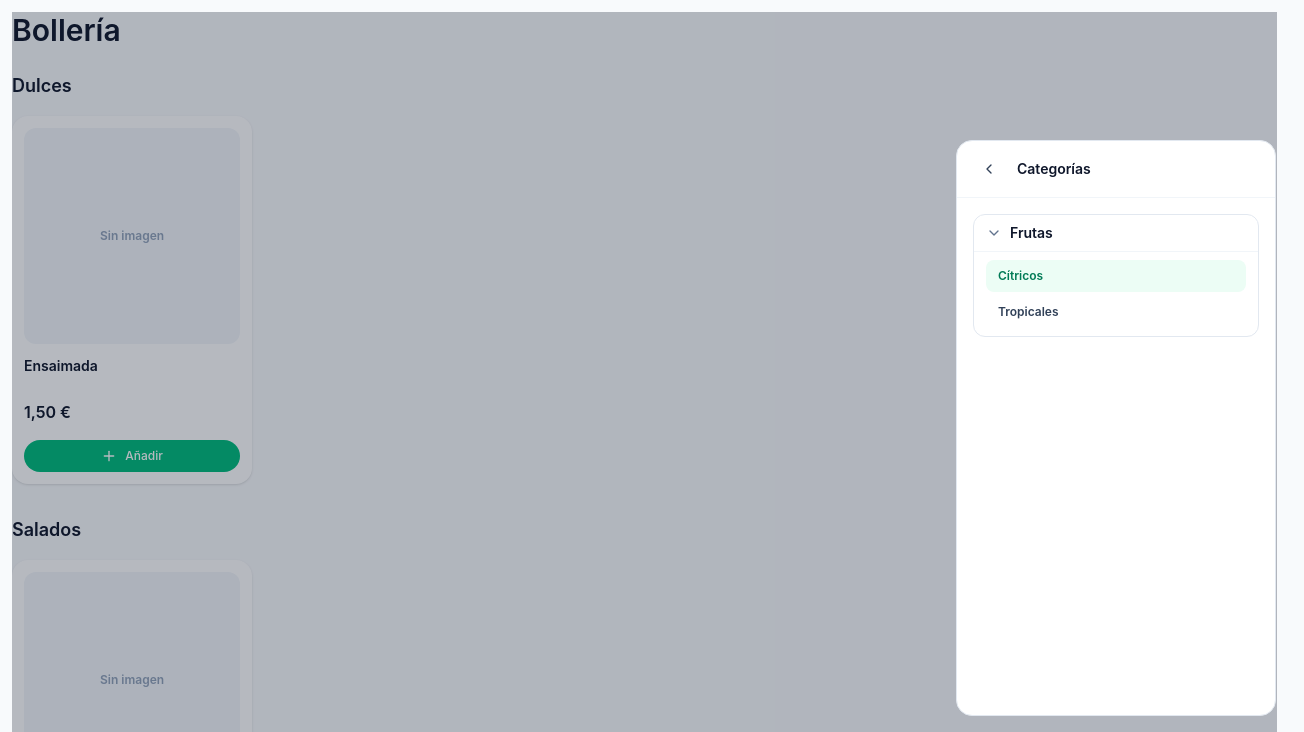
Scenario: Catalog › keeps mobile panel open on parent click and closes + scrolls on subcategory click
Click the button "Frutas" at (1031, 232), box 974,215 -> 1258,251
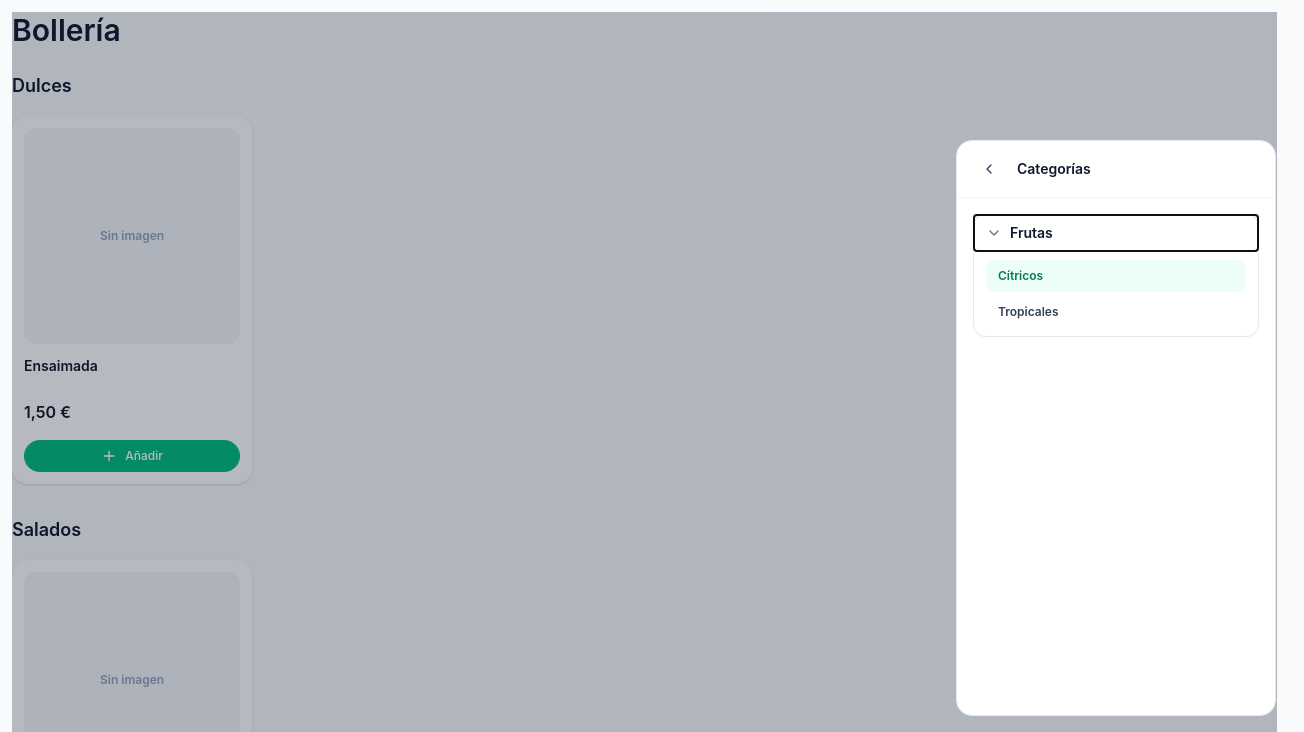
Click the button "Cítricos" at (1021, 276), box 986,260 -> 1246,292
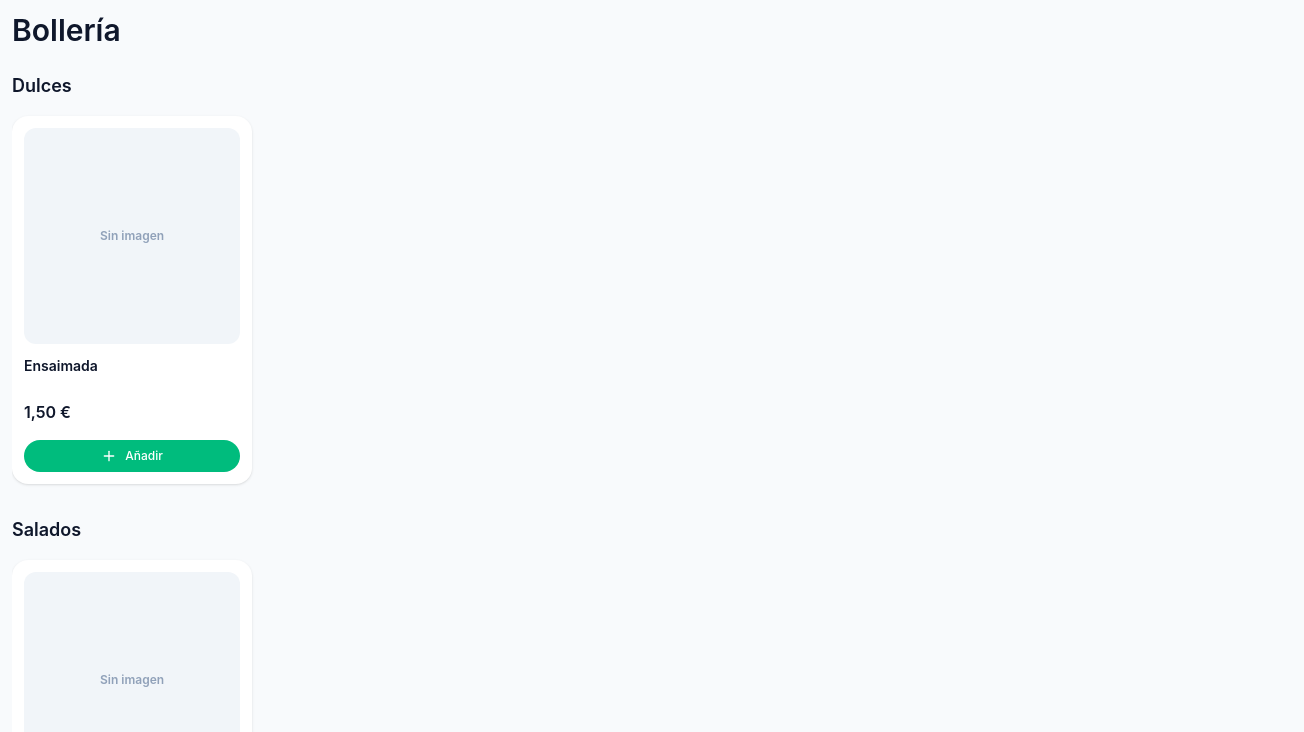
Now the element with test id "mobile-categories-overlay" is gone
